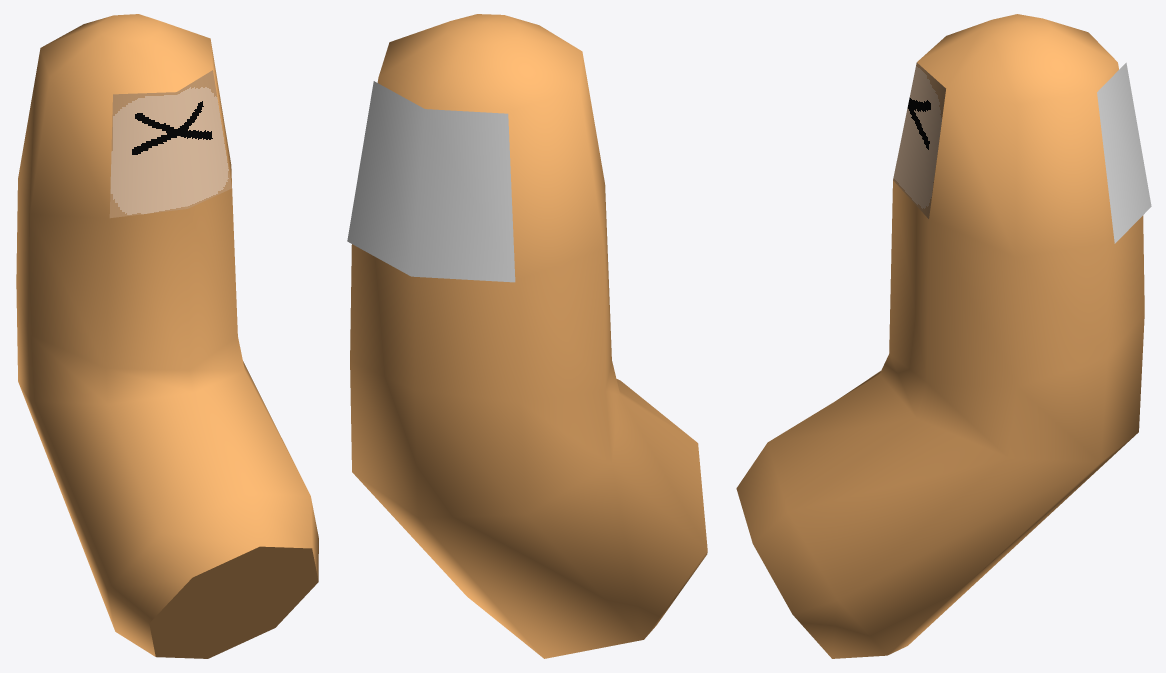
The model's file is OTA_D_01.glb.
3 renders of one model, left to right at view 1: azimuth 30°, elevation 25°; view 2: azimuth 150°, elevation 25°; view 3: azimuth 270°, elevation 25°, orthographic. The views are drawn at different scales.
Parts seen in each view (by area): view 1: FRAME_ROOT; view 2: FRAME_ROOT; view 3: FRAME_ROOT.
Boxes of the visible parts, x1,y1,x2,y2 form: FRAME_ROOT: (16, 14, 318, 658); FRAME_ROOT: (347, 14, 707, 658); FRAME_ROOT: (736, 14, 1151, 658).
Bounding box in the file's own units: 1.28 × 3.35 × 2.01.
Materials: 3 (3 with a texture image).
